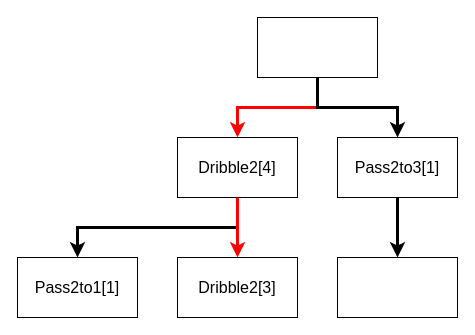
This 475x335 diagram has some shape labels left out. Each missing label, with the centre of its shape:
Dribble3[1]: point (397, 287)
Pass1to2[5]: point (317, 47)
